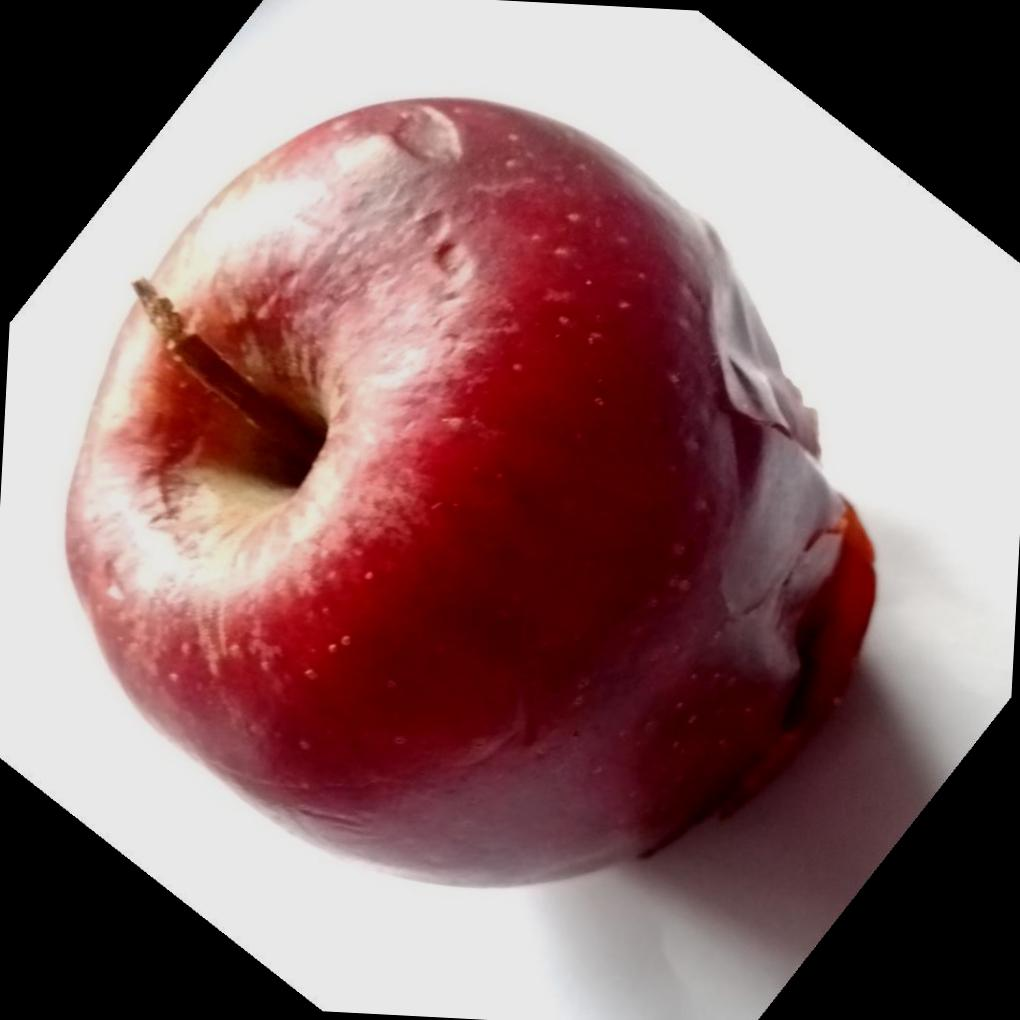FreshOrange: (60, 94, 880, 890)
